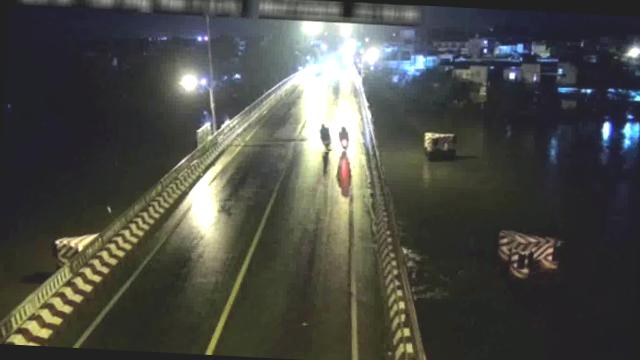Bike: (316, 122, 332, 152), (338, 124, 351, 150)
